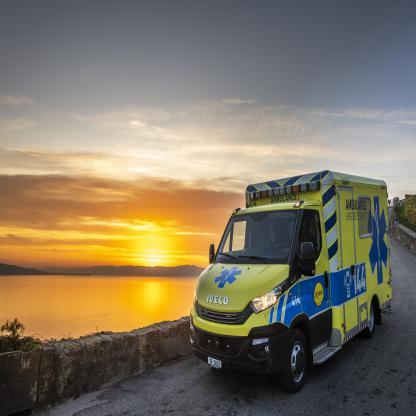Ambulance - v1 Ambulance last generate: (183, 159, 404, 378)
